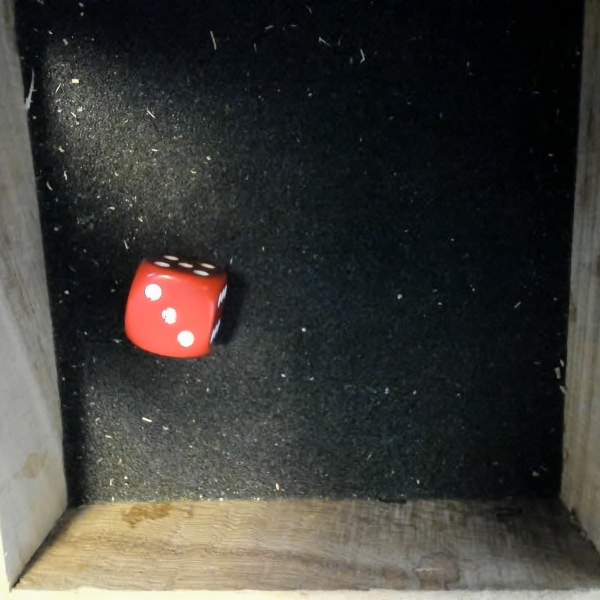red_die_pip3: (121, 243, 241, 370)
